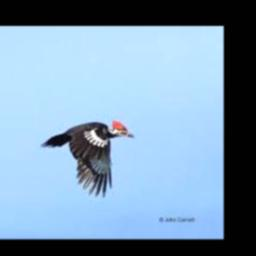Woodpecker: (40, 119, 134, 198)
